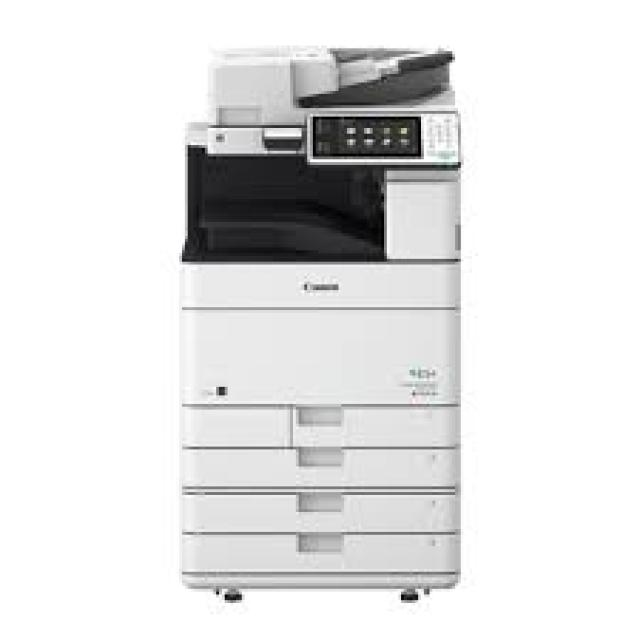printer: (176, 43, 464, 603)
